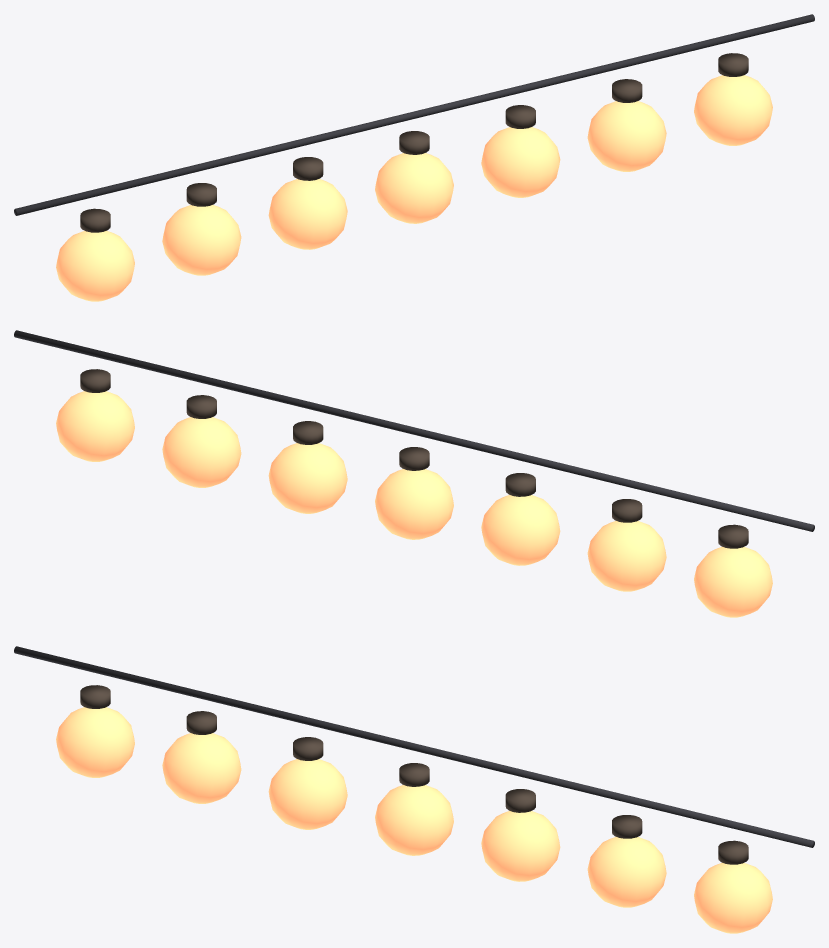
Rendered from prop_renchochin.glb.
The picture shows the model from 3 angles, top to bottom: view 1: azimuth 30°, elevation 25°; view 2: azimuth 150°, elevation 25°; view 3: azimuth 330°, elevation 25°; orthographic projection.
Visible parts, largest first — view 1: renchochin; view 2: renchochin; view 3: renchochin.
Part boxes in pixels (bbox=[...]): renchochin: bbox=[14, 14, 814, 301]; renchochin: bbox=[14, 330, 814, 617]; renchochin: bbox=[14, 646, 814, 933].
Size of the model in its own units: 3 by 0.389 by 0.26.
